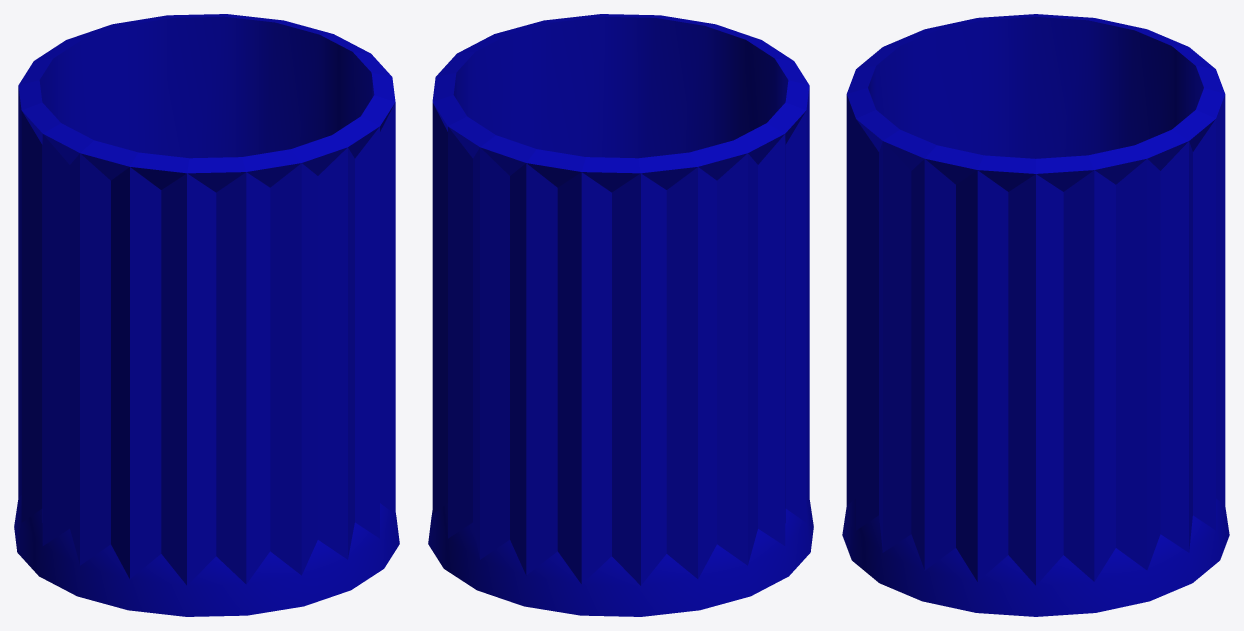
Rendered from mesh_GarbageBin_v1.fbx.
3 views of the same model, side by side, from view 1: azimuth 30°, elevation 25°; view 2: azimuth 150°, elevation 25°; view 3: azimuth 270°, elevation 25° (orthographic).
Visible parts, largest first — view 1: mesh_GarbageBin_v1_0; view 2: mesh_GarbageBin_v1_0; view 3: mesh_GarbageBin_v1_0.
Part boxes in pixels (<box>): mesh_GarbageBin_v1_0: <box>14,14,399,616</box>; mesh_GarbageBin_v1_0: <box>428,14,813,616</box>; mesh_GarbageBin_v1_0: <box>842,14,1229,616</box>.
Bounding box in the file's own units: 51.08 × 65.09 × 51.08.
